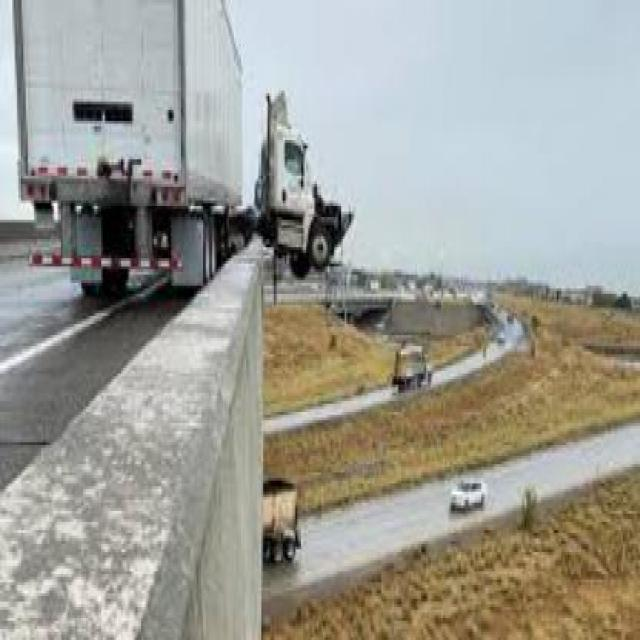accident: (4, 0, 360, 310)
